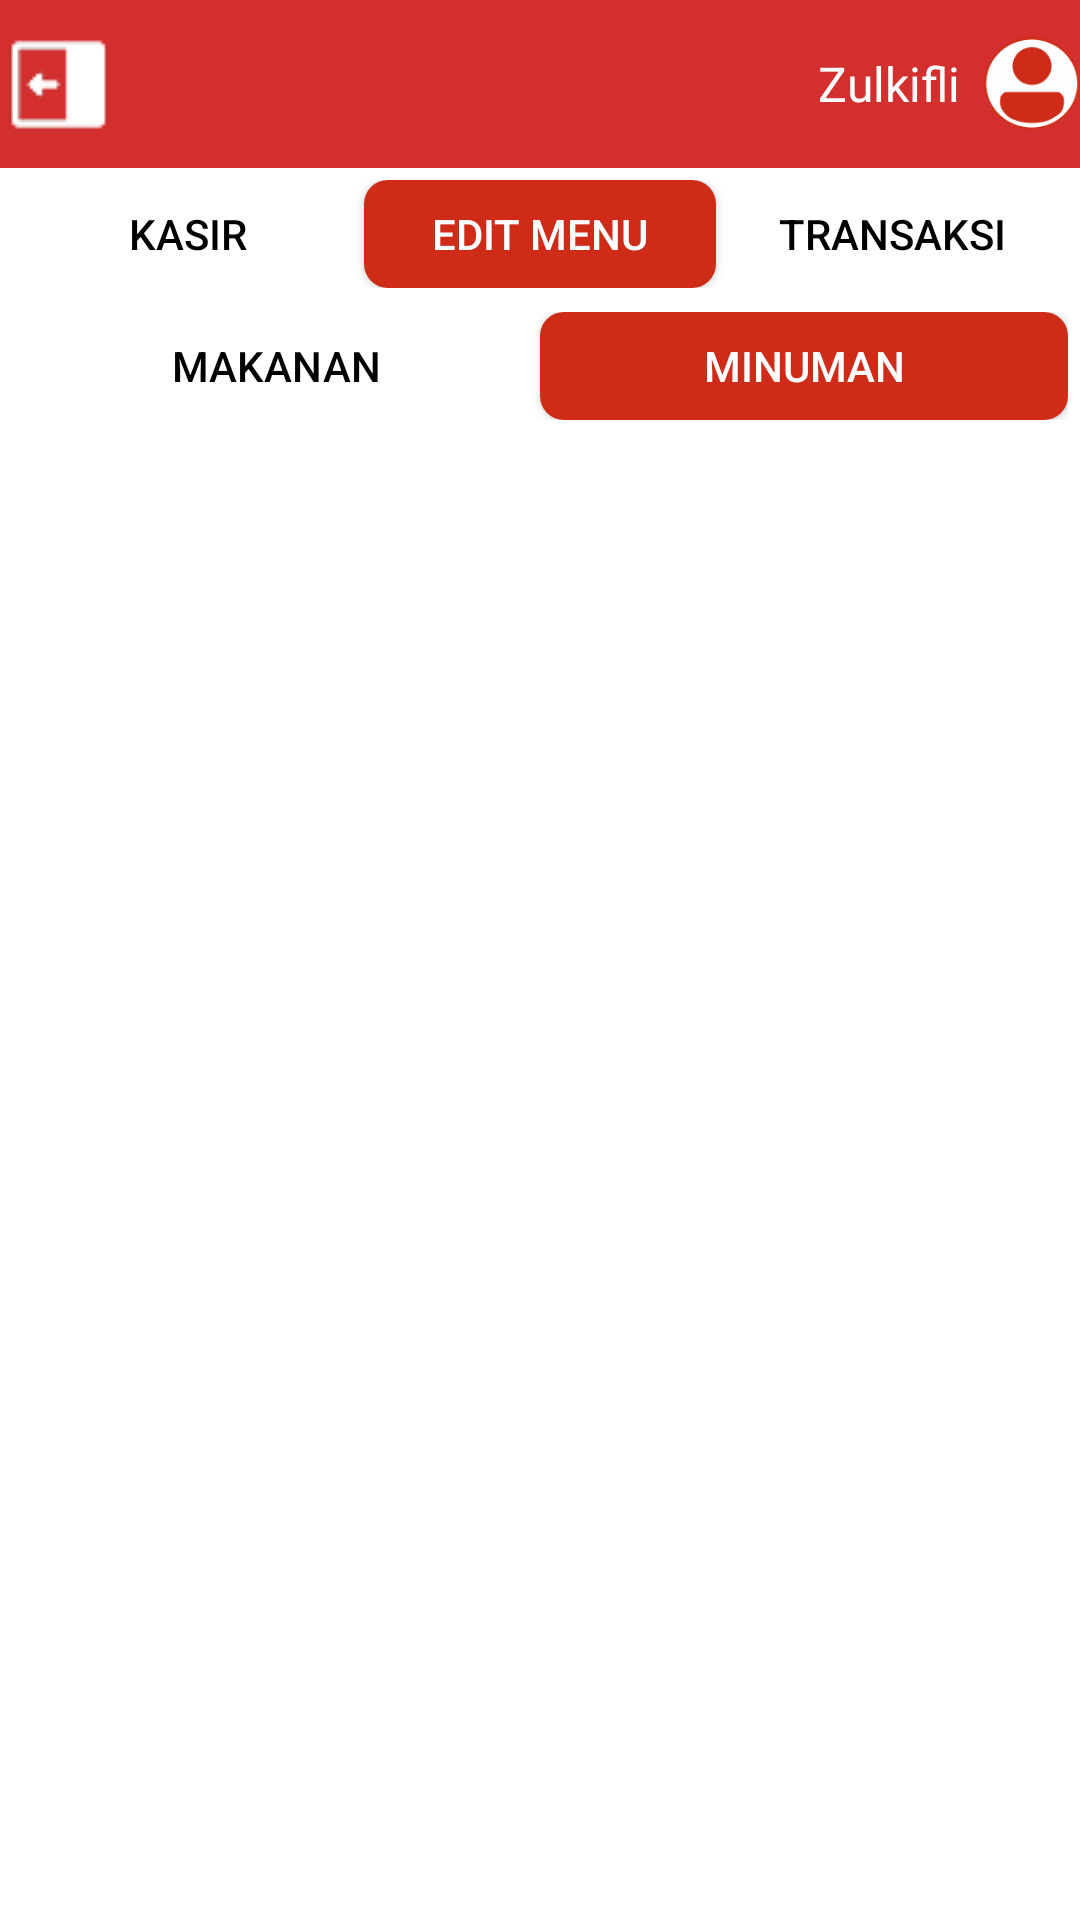

Screen size 1080w x 1920h. Icon name, then its center in pixels as [x,y]:
Tombol Kembali: [58,84]
User: [1032,83]
